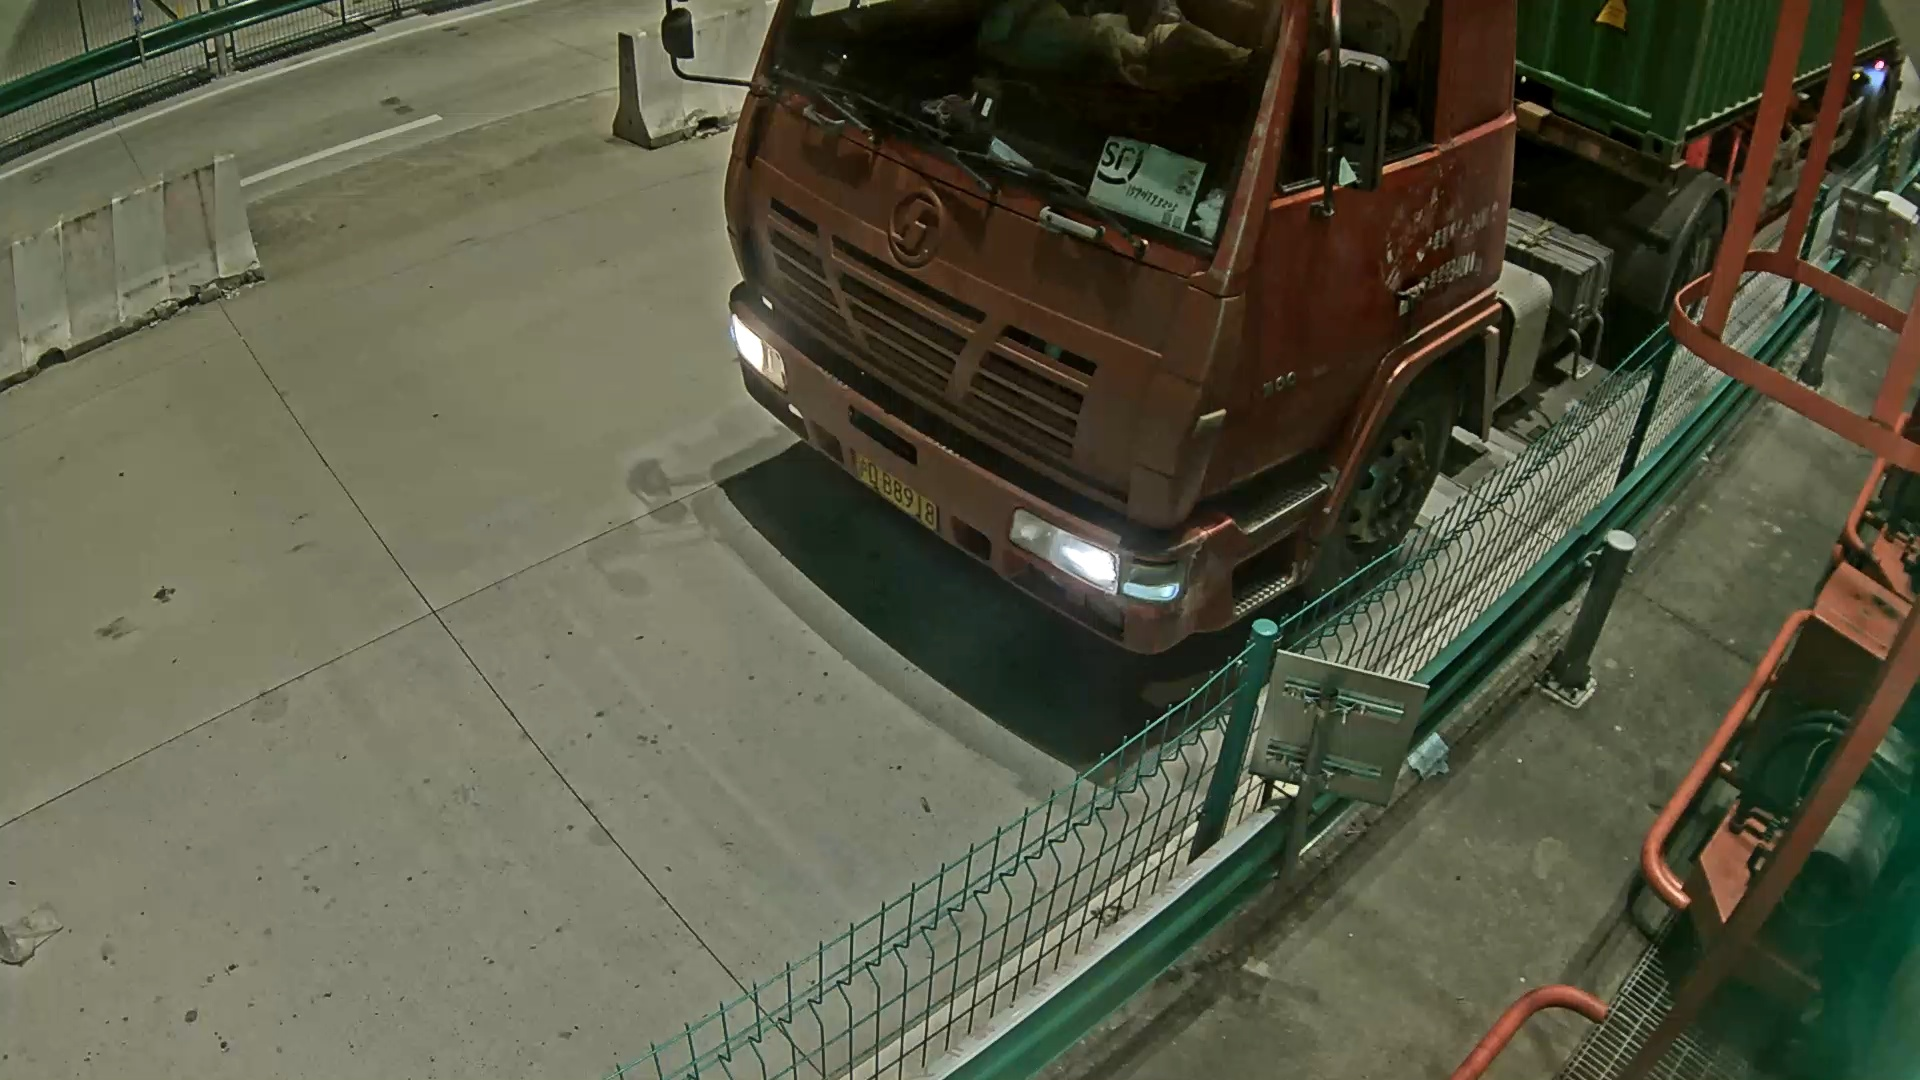head: (725, 1, 1518, 652)
plate: (848, 444, 935, 532)
